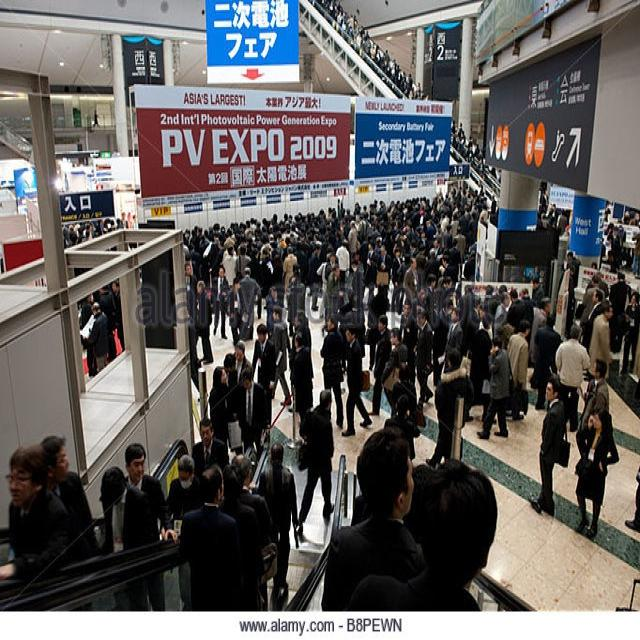body: (343, 453, 501, 614), (320, 425, 427, 611), (321, 186, 446, 330), (537, 181, 639, 344), (445, 111, 516, 344), (181, 202, 321, 281), (173, 462, 245, 611), (39, 433, 103, 594), (122, 440, 179, 612), (0, 443, 70, 582), (97, 464, 158, 612), (218, 462, 268, 611), (527, 369, 573, 519), (573, 405, 622, 543), (424, 343, 475, 472), (257, 440, 299, 593), (294, 385, 337, 529), (361, 24, 431, 101), (573, 357, 611, 478), (553, 320, 591, 434), (230, 450, 276, 540), (60, 205, 138, 257), (476, 338, 514, 443), (339, 322, 373, 438), (230, 366, 270, 455), (306, 0, 362, 61), (530, 309, 562, 415), (319, 311, 347, 430), (469, 312, 499, 419), (251, 320, 279, 430), (366, 314, 393, 424), (177, 301, 205, 406), (165, 452, 205, 524), (383, 393, 422, 462), (506, 318, 531, 422), (268, 305, 293, 408), (379, 326, 409, 411), (289, 330, 315, 424), (190, 415, 229, 477), (412, 305, 434, 413), (588, 296, 614, 382), (407, 463, 435, 539), (208, 365, 234, 442), (109, 274, 131, 364), (237, 265, 262, 342), (528, 295, 554, 369), (618, 289, 640, 376), (193, 278, 214, 366), (79, 292, 100, 379), (211, 262, 232, 344), (221, 275, 244, 348), (97, 285, 118, 364), (287, 308, 312, 372), (88, 301, 110, 373), (622, 456, 639, 540), (444, 306, 465, 365), (608, 268, 633, 316), (402, 254, 420, 318), (506, 286, 529, 336), (399, 298, 420, 352), (518, 287, 535, 352), (389, 245, 404, 318), (287, 262, 301, 340), (308, 242, 323, 312), (183, 261, 199, 322), (282, 243, 299, 300), (233, 339, 252, 385), (265, 284, 282, 335), (221, 351, 240, 389), (222, 244, 238, 288), (234, 242, 252, 278), (349, 490, 368, 524), (531, 275, 546, 307), (90, 106, 100, 130)
